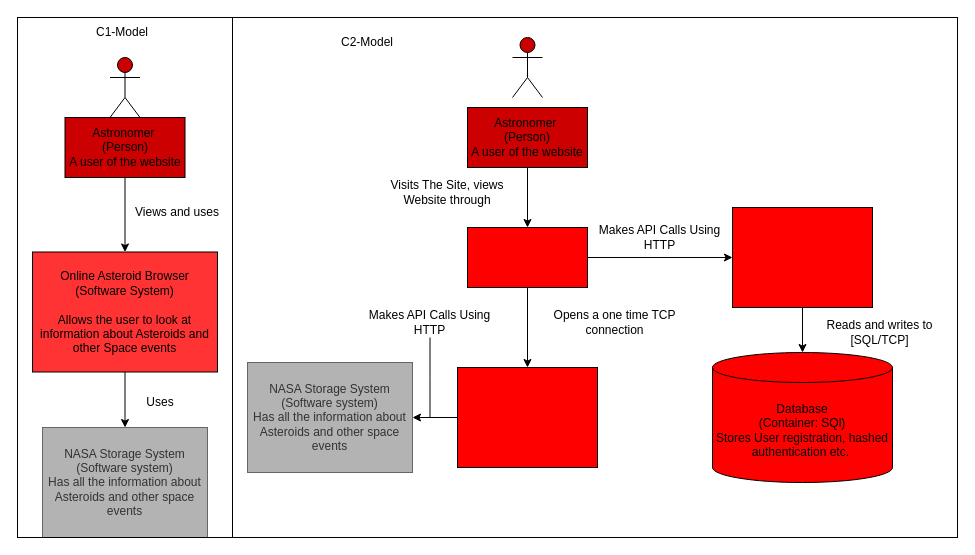
This 975x555 diagram has some shape labels left out. The shapes that lost their labels are listed below. From the top down, each one's centre as x and y in pixels, then its label:
At (527,257): "Web-Application Container: Vue.js".
At (802,257): "API-application Container: C# Provides Account information via JSON/HTTP".
At (527,417): "WebSocket-application Container: Java Provides Web App Functionality via a JSON".
